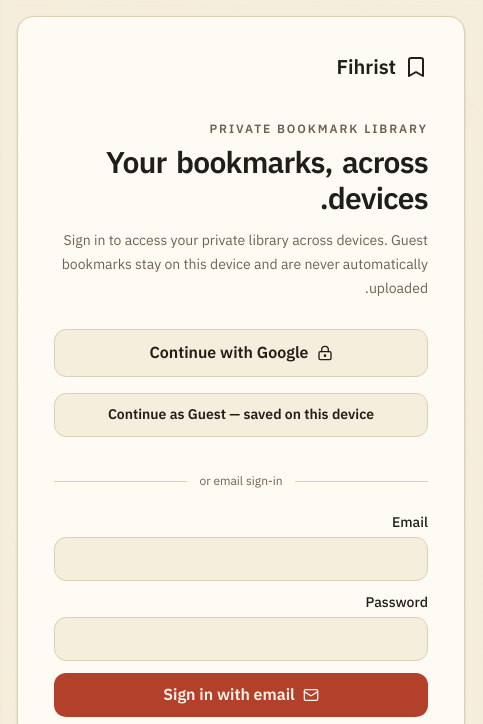
Test: Google sign-in readiness › preserves Guest Mode when the OAuth request fails
This screenshot has width=483, height=724.
Click the button "Continue with Google". click: coordinates (241, 353)
box: [54, 329, 428, 377]
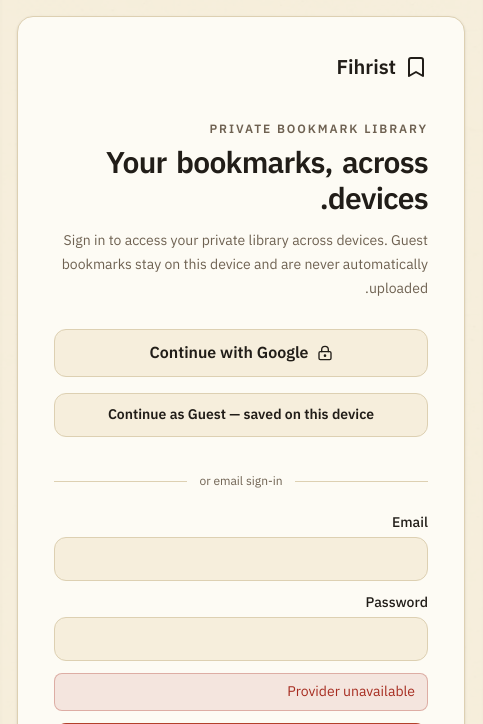
Check: the message reads "Provider unavailable", box [287, 681, 415, 702]
